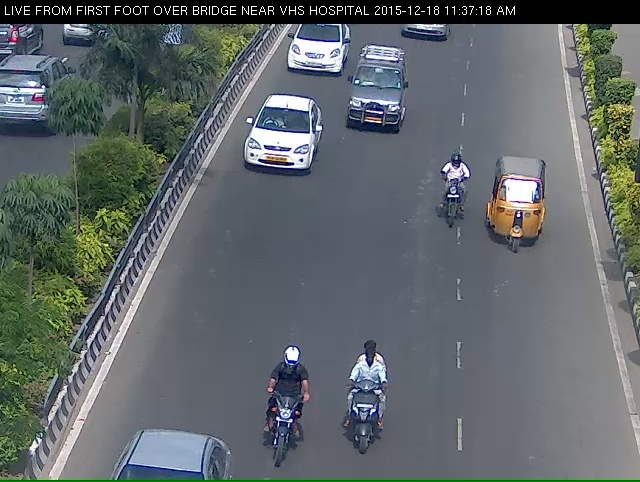Car: (340, 62, 413, 162), (238, 103, 307, 198), (490, 163, 549, 274), (273, 23, 338, 82), (391, 22, 455, 53)
Person: (245, 381, 311, 477), (334, 379, 392, 476), (426, 172, 470, 253)
